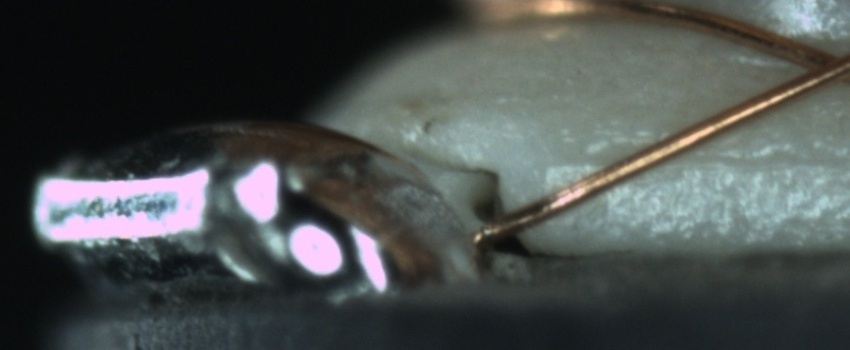CL: (769, 32, 849, 96)
DL: (562, 125, 849, 190)
